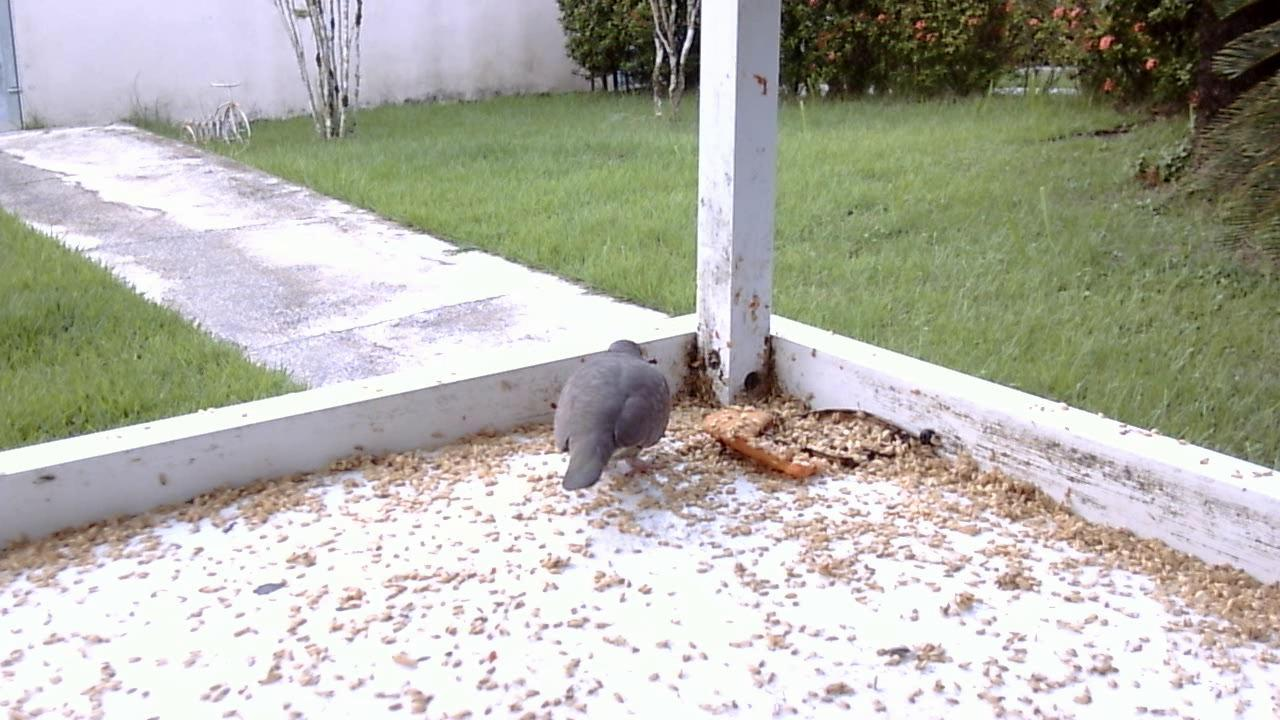rolinha: (542, 329, 677, 494)
